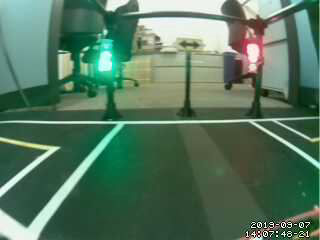Left_Right_sign: (175, 37, 208, 54)
Traffic_light_green: (98, 39, 112, 72)
Traffic_light_red: (244, 40, 262, 72)
